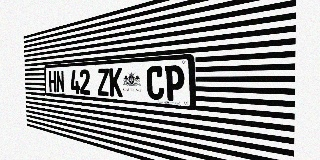2: (80, 69, 90, 95)
4: (70, 70, 80, 94)
C: (147, 66, 164, 100)
H: (49, 71, 56, 92)
K: (109, 68, 123, 97)
N: (56, 70, 64, 93)
P: (165, 65, 185, 102)
Z: (97, 68, 109, 96)
